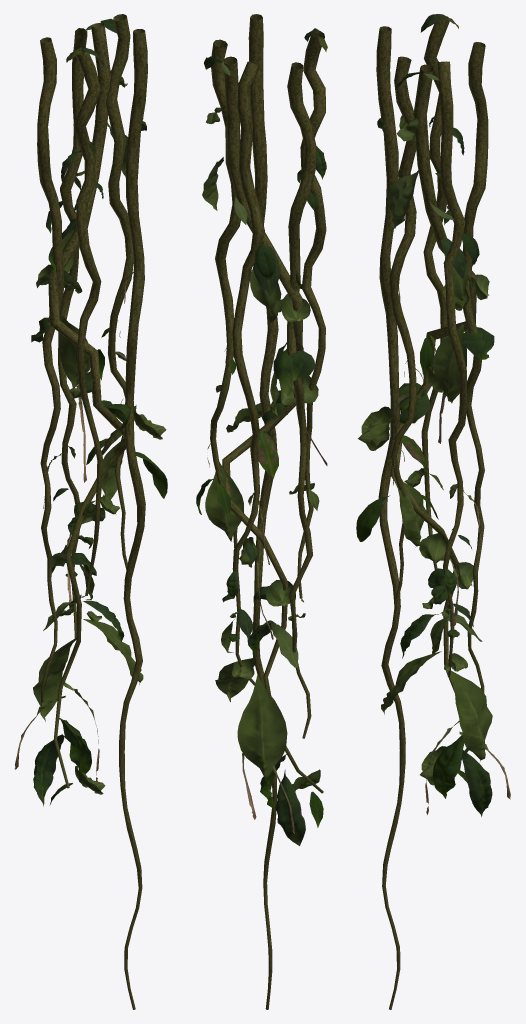
The model's file is SM_Vine_F.fbx.
The picture shows the model from 3 angles, left to right: view 1: azimuth 90°, elevation 25°; view 2: azimuth 210°, elevation 25°; view 3: azimuth 270°, elevation 25°; orthographic projection.
Parts seen in each view (by area): view 1: SM_Vine_F_LOD0; view 2: SM_Vine_F_LOD0; view 3: SM_Vine_F_LOD0.
Part boxes in pixels (left/top/right/bottom): SM_Vine_F_LOD0: left=14, top=14, right=167, bottom=1009; SM_Vine_F_LOD0: left=196, top=14, right=327, bottom=1009; SM_Vine_F_LOD0: left=356, top=14, right=510, bottom=1009.
Bounding box in the file's own units: 53.35 × 66.94 × 468.
